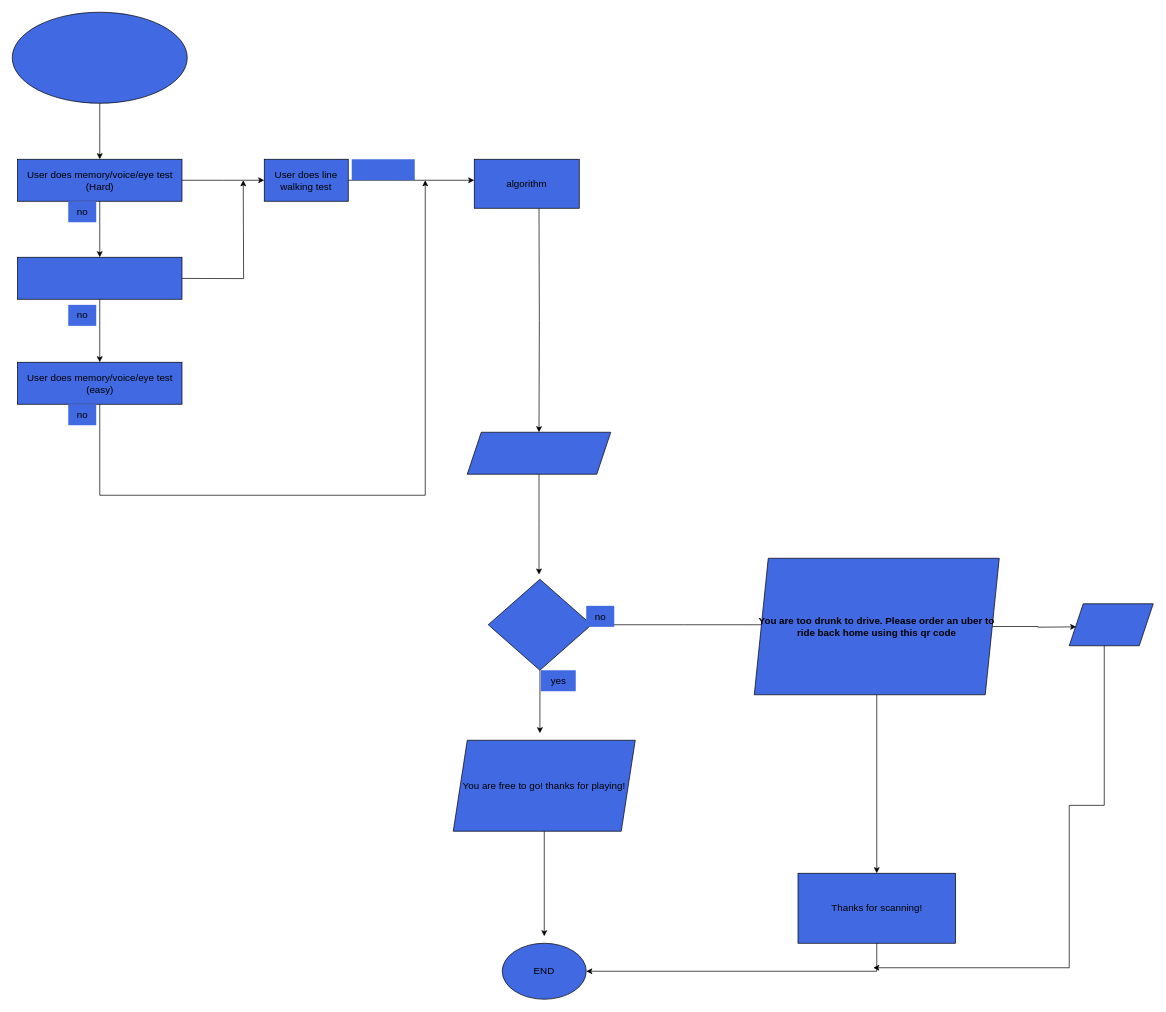
Some shapes in this 1166 by 1012 pixel diagram are drawn without their labels. The shapes that lost their labels are listed below. From the top down, each one's centre as x and y in pixels, then its label:
(x=99, y=57): START
(x=382, y=169): yes and no
(x=99, y=278): User does memory/voice/eye test (medium)
(x=539, y=453): You are currently x% drunk
(x=540, y=624): is %<x
(x=1111, y=624): Stay safe!
